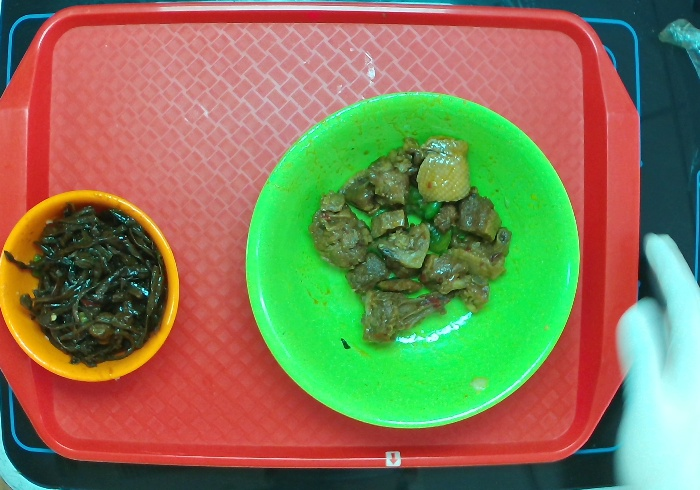YKMZ-Ju_Se_Yuan_Wan: (1, 186, 182, 386)
YKMZ-Lv_Se_Tang_Wan: (243, 90, 582, 432)
